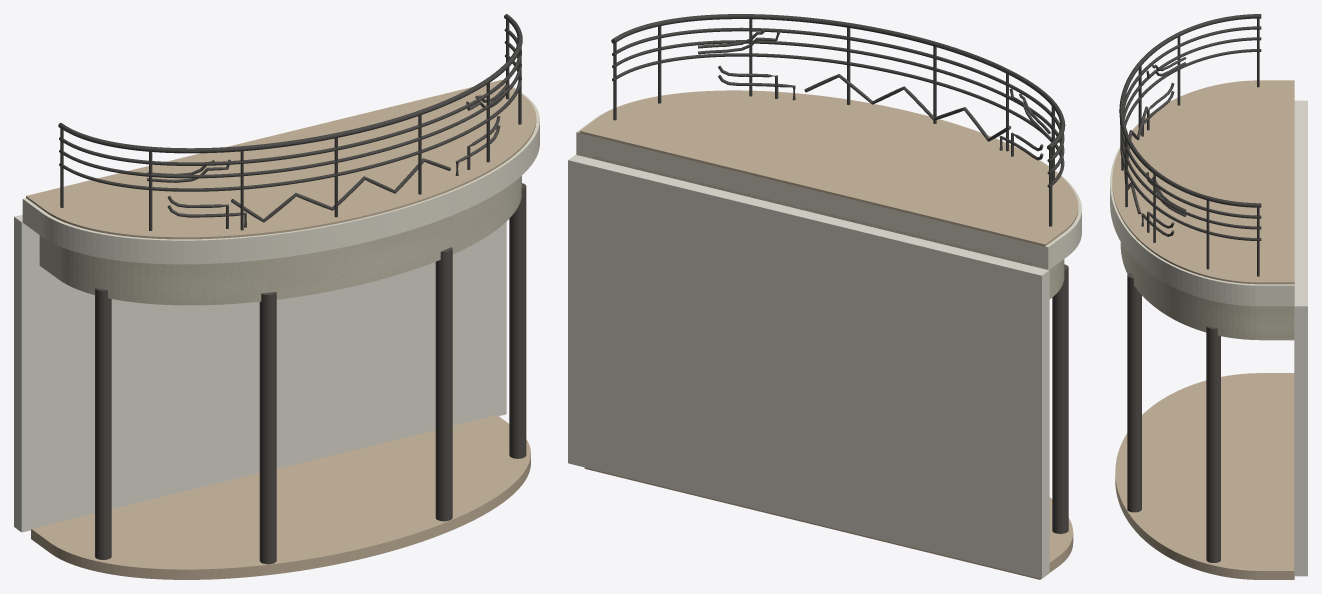
Rendered from animation-studio-white-villa-terrace-near.glb.
The picture shows the model from 3 angles, left to right: view 1: azimuth 30°, elevation 25°; view 2: azimuth 150°, elevation 25°; view 3: azimuth 270°, elevation 25°; orthographic projection. The views are drawn at different scales.
Visible parts, largest first — view 1: 上美影小白楼庭院弧形露台与四根圆柱; view 2: 上美影小白楼庭院弧形露台与四根圆柱; view 3: 上美影小白楼庭院弧形露台与四根圆柱.
Part boxes in pixels (box(x1,y1,x2,y2)): 上美影小白楼庭院弧形露台与四根圆柱: box(14, 14, 539, 579); 上美影小白楼庭院弧形露台与四根圆柱: box(568, 14, 1081, 579); 上美影小白楼庭院弧形露台与四根圆柱: box(1110, 14, 1307, 579).
Bounding box in the file's own units: 5.12 × 4.32 × 2.08.
Materials: 7 (1 with a texture image).
